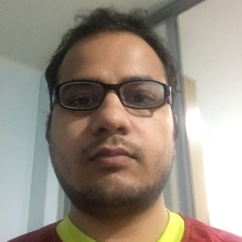glasses: (49, 80, 178, 108)
